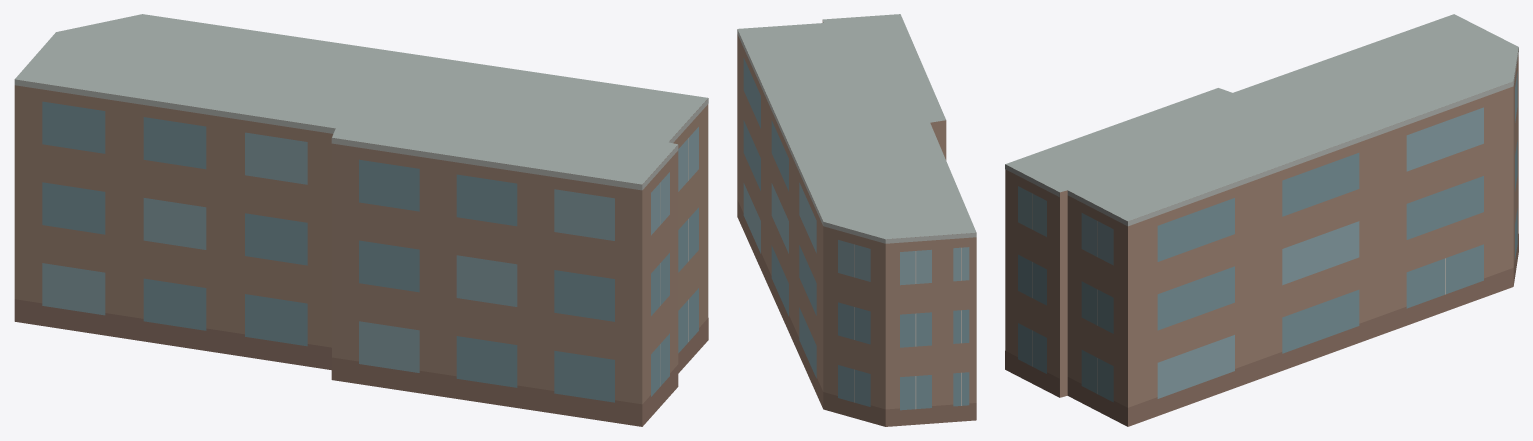
Rendered from survey-upis-32994436.glb.
3 renders of one model, left to right at view 1: azimuth 30°, elevation 25°; view 2: azimuth 150°, elevation 25°; view 3: azimuth 270°, elevation 25°, orthographic. The views are drawn at different scales.
Visible parts, largest first — view 1: survey-upis-32994436.tmp; view 2: survey-upis-32994436.tmp; view 3: survey-upis-32994436.tmp.
Part boxes in pixels (x1,y1,x2,y2): survey-upis-32994436.tmp: (14,14,708,426); survey-upis-32994436.tmp: (737,14,976,426); survey-upis-32994436.tmp: (1005,14,1518,426).
Bounding box in the file's own units: 21.88 × 10.1 × 22.89.
